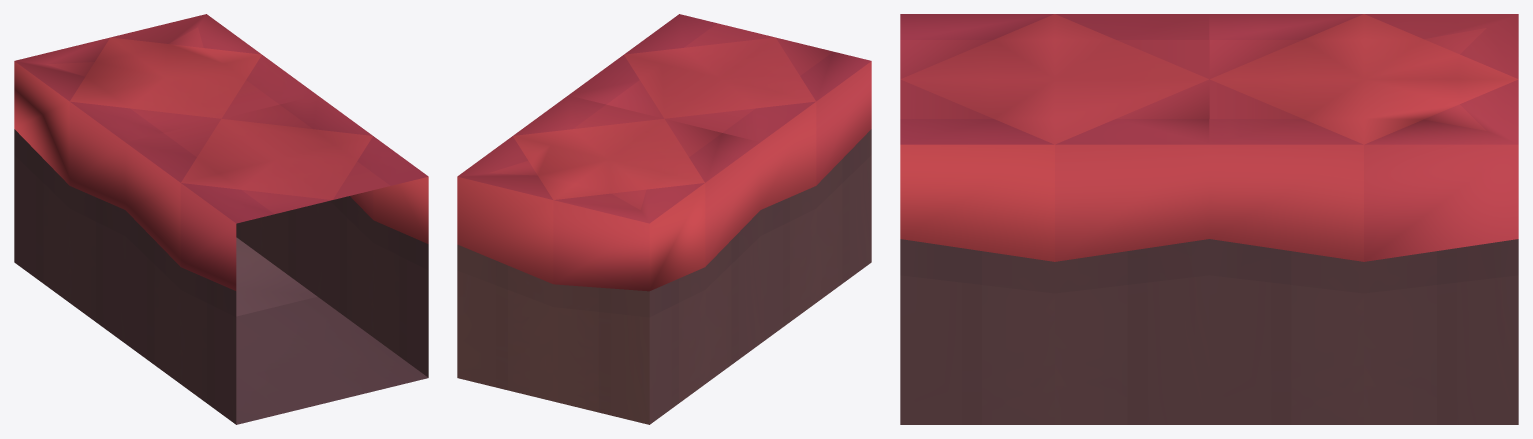
The model's file is SM_Baseblock1x1Level2VARIATION.fbx.
The picture shows the model from 3 angles, left to right: view 1: azimuth 30°, elevation 25°; view 2: azimuth 150°, elevation 25°; view 3: azimuth 270°, elevation 25°; orthographic projection. The views are drawn at different scales.
Visible parts, largest first — view 1: Base_FullF.003; view 2: Base_FullF.003; view 3: Base_FullF.003.
Part boxes in pixels (box(x1,y1,x2,y2)): Base_FullF.003: box(14, 14, 428, 424); Base_FullF.003: box(457, 14, 871, 424); Base_FullF.003: box(900, 14, 1518, 424).
Bounding box in the file's own units: 100 × 200 × 100.
